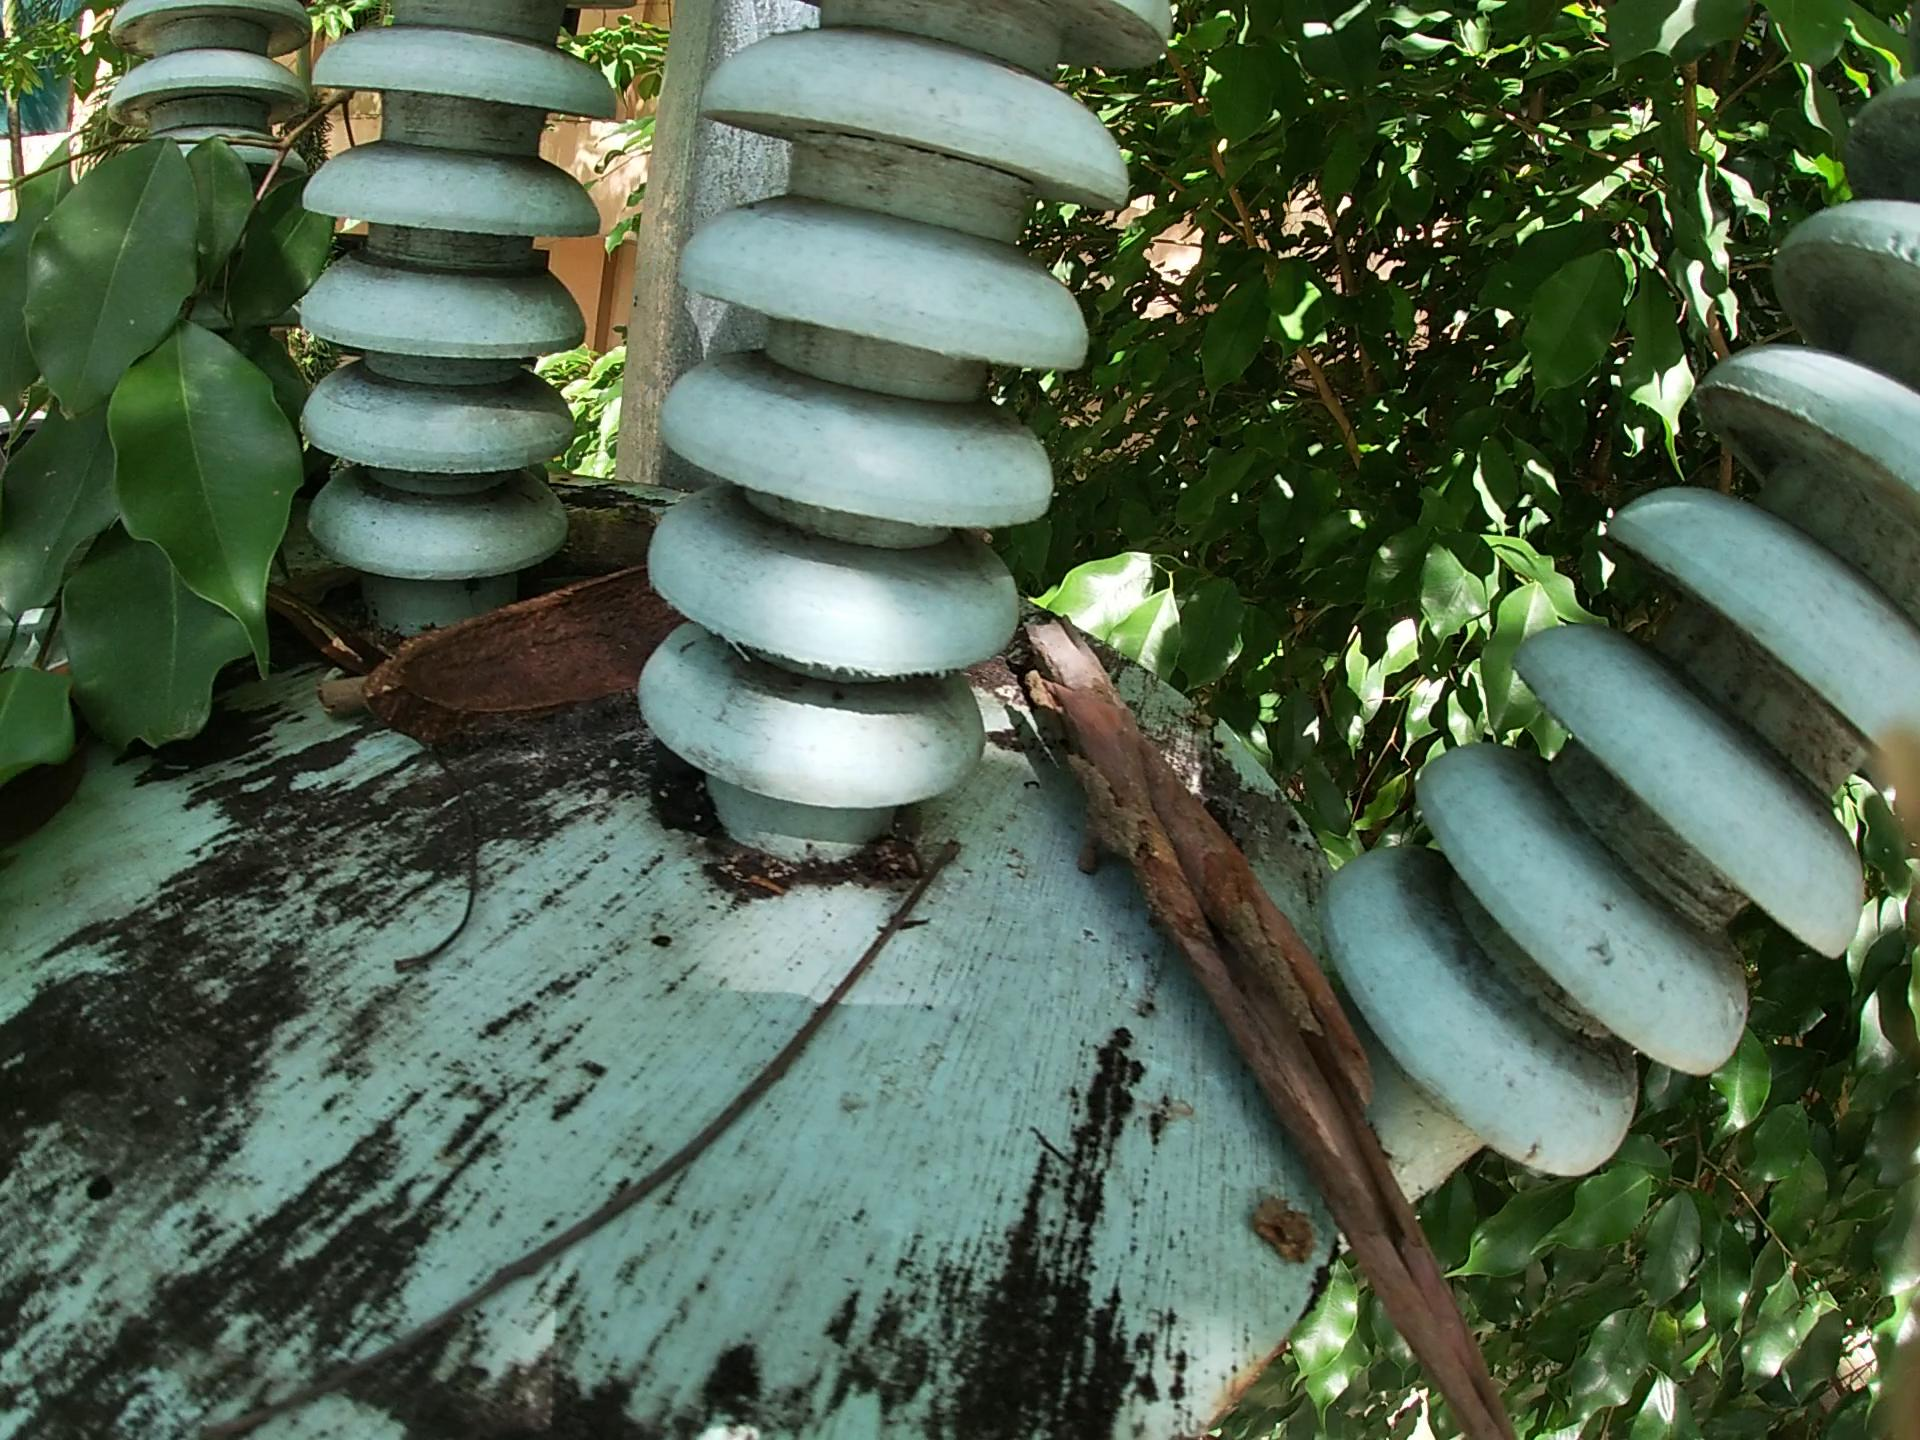branch with leaves: (2, 56, 392, 874)
leaf: (262, 582, 370, 667)
mahogany fruit: (351, 567, 747, 755)
tree branch: (184, 824, 974, 1432), (1022, 596, 1581, 1440), (398, 691, 472, 1013), (538, 487, 677, 566), (305, 685, 369, 728)
